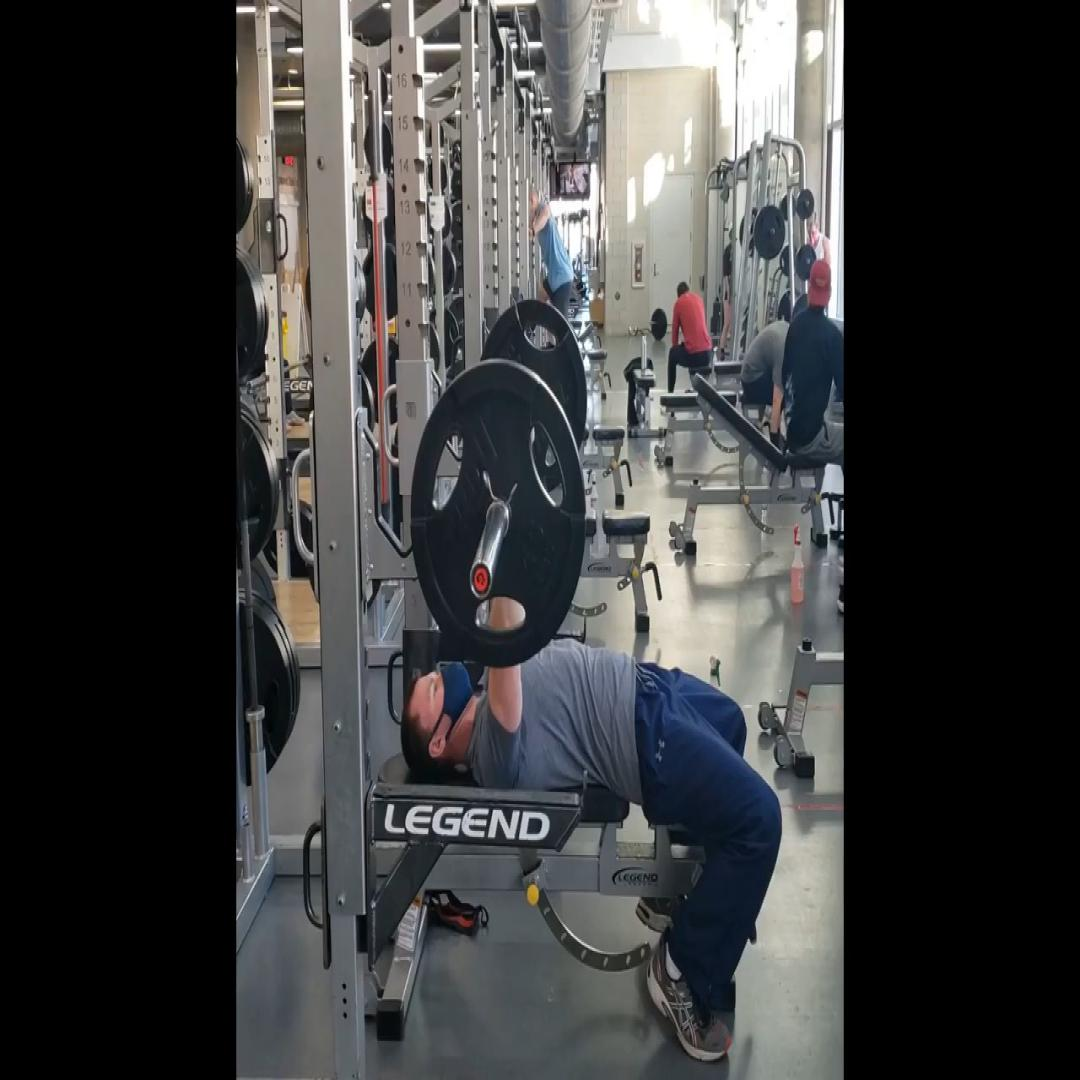Bar: (468, 559, 494, 601)
Barbell: (411, 363, 585, 667)
